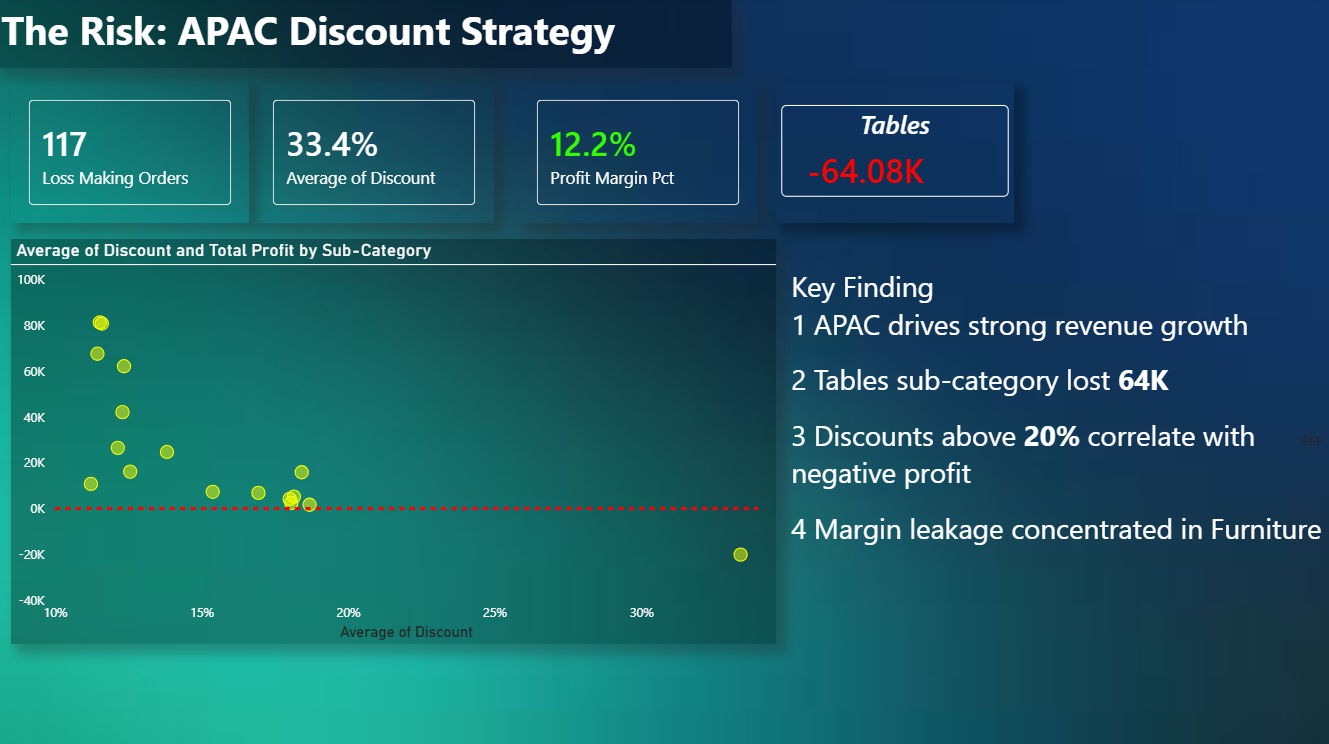

The page's visual inventory and layout, read from the dashboard file:
{"tool":"powerbi","page":{"name":"Risk","canvas":[1280,720],"ordinal":2},"visuals":[{"type":"cardVisual","fields":{"Data":["Fact_Orders.Loss Making Orders"]},"box":[14.4,80.5,228,135.1],"z":0},{"type":"cardVisual","fields":{"Data":["Avg(Fact_Orders.Discount)"]},"box":[248.1,80.5,229,135.1],"z":1000},{"type":"cardVisual","fields":{"Data":["Fact_Orders.Profit Margin Pct"]},"box":[501.1,80.5,228,135.1],"z":2000},{"type":"textbox","box":[0,0,705.1,67.1],"z":4000},{"type":"scatterChart","fields":{"Category":["Dim_Product.Sub-Category"],"X":["Avg(Fact_Orders.Discount)"],"Y":["Fact_Orders.Total Profit"]},"box":[14.4,230.9,732.9,388],"z":5000},{"type":"textbox","box":[756.9,252.9,523.1,388],"z":6000},{"type":"cardVisual","fields":{"Data":["Fact_Orders.Total Profit"],"Rows":["Dim_Product.Sub-Category"]},"box":[747.3,80.5,228,135.1],"z":7000}]}

Visuals, with their boxes in screenshot pixels (x1, y1, x2, y2), scaled from the page's 1280x720 canvas onto the 1329x744 screenshot:
cardVisual - Fact_Orders.Loss Making Orders: [left=15, top=83, right=252, bottom=223]
cardVisual - Avg(Fact_Orders.Discount): [left=258, top=83, right=495, bottom=223]
cardVisual - Fact_Orders.Profit Margin Pct: [left=520, top=83, right=757, bottom=223]
textbox: [left=0, top=0, right=732, bottom=69]
scatterChart - Dim_Product.Sub-Category x Avg(Fact_Orders.Discount): [left=15, top=239, right=776, bottom=640]
textbox: [left=786, top=261, right=1328, bottom=662]
cardVisual - Fact_Orders.Total Profit x Dim_Product.Sub-Category: [left=776, top=83, right=1013, bottom=223]
